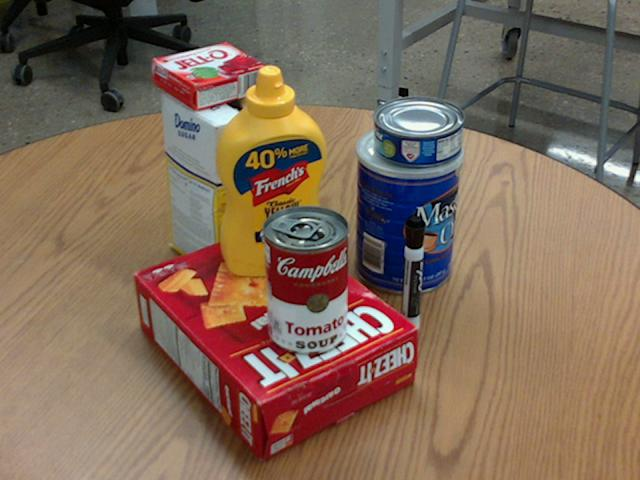cracker_box: (135, 221, 417, 459)
gelatin_box: (153, 43, 268, 110)
large_marker: (399, 216, 424, 332)
master_chef_can: (352, 122, 464, 294)
mug: (213, 144, 300, 246)
mustard_bottle: (214, 65, 325, 275)
potted_meat_can: (196, 82, 312, 204)
sugar_box: (162, 86, 249, 283)
tomato_soup_can: (262, 205, 349, 354)
tuna_fish_can: (373, 97, 464, 166)
